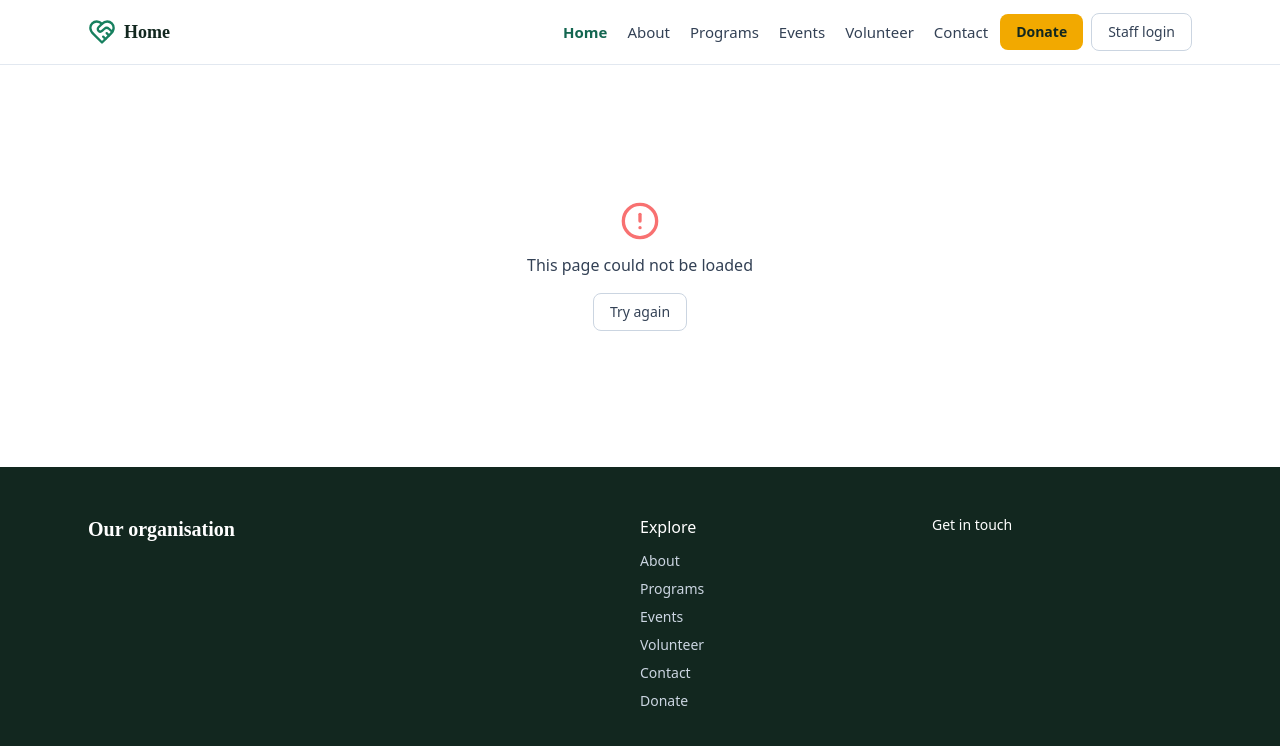
public home › shows an error with retry when the site cannot load
Click the button "Try again".
click(640, 312)  # box [593,293,687,331]
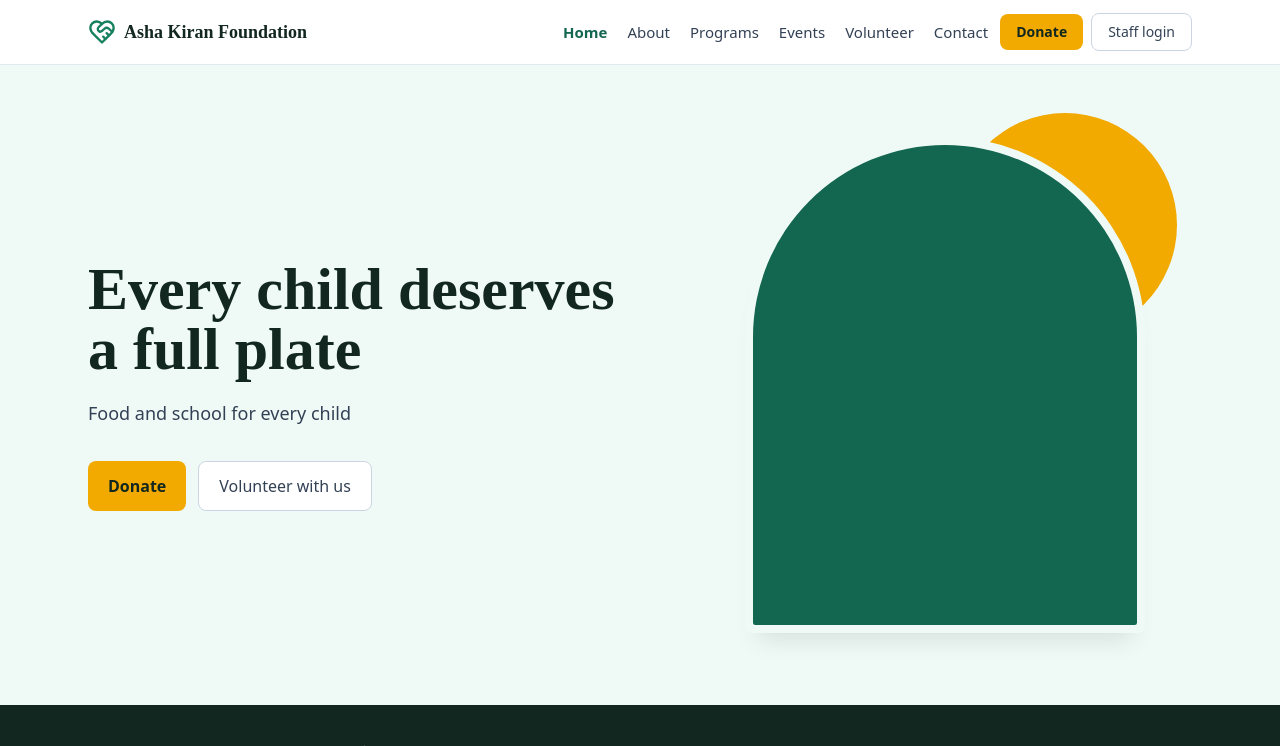
Expected: the heading "Every child deserves a full plate" is shown, [88,259,657,379]
